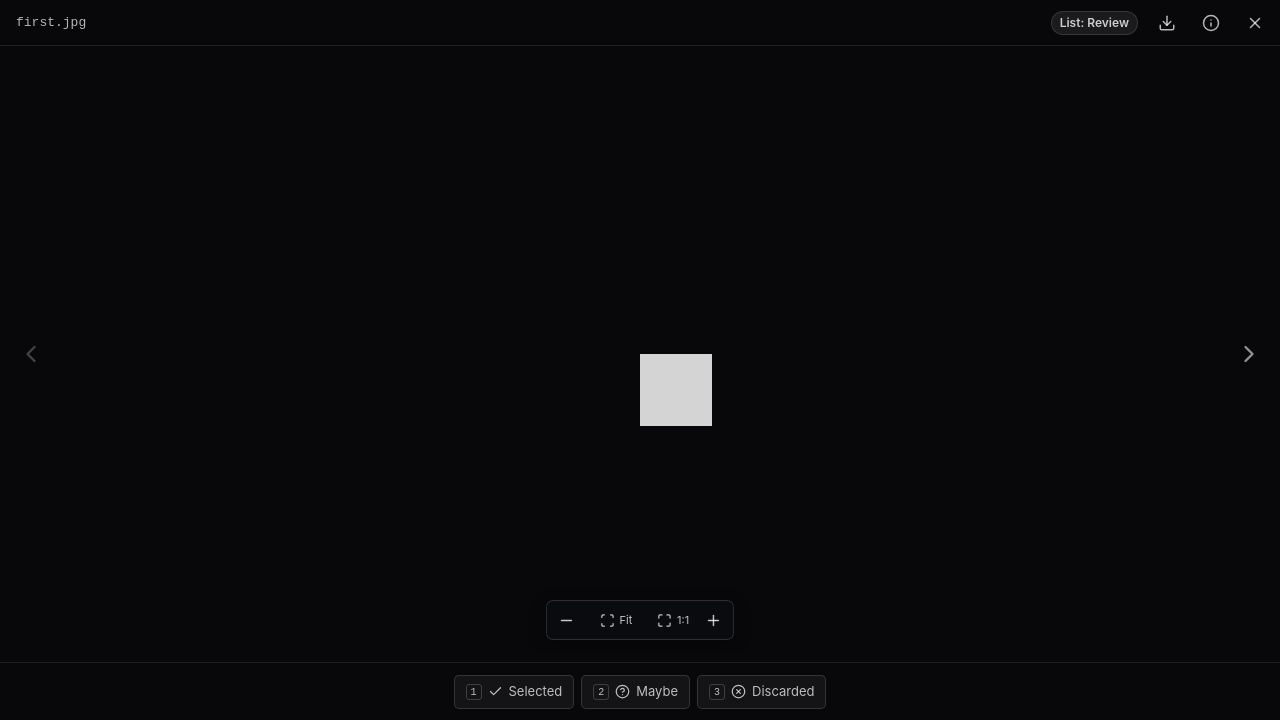
Viewer technical details › loads details only after opening the panel and renders the curated metadata
Click the button named "Show details" at x=1211, y=22, box [1196,8,1226,38]
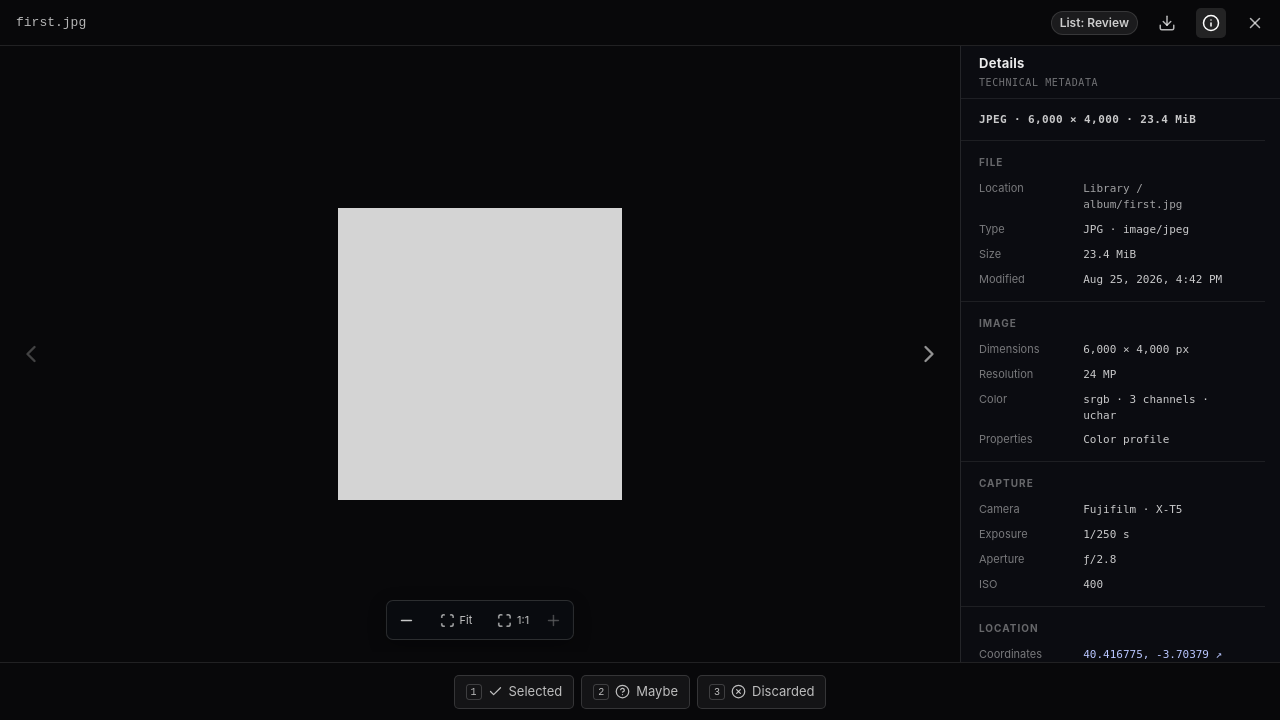
Expected: the text "JPEG · 6,000 × 4,000 · 23.4 MiB" is shown, [961,99,1265,141]
Expected: the text "Library / album/first.jpg" is shown, [1083,182,1182,211]
Expected: the text "Fujifilm · X-T5" is shown, [1083,503,1182,516]
